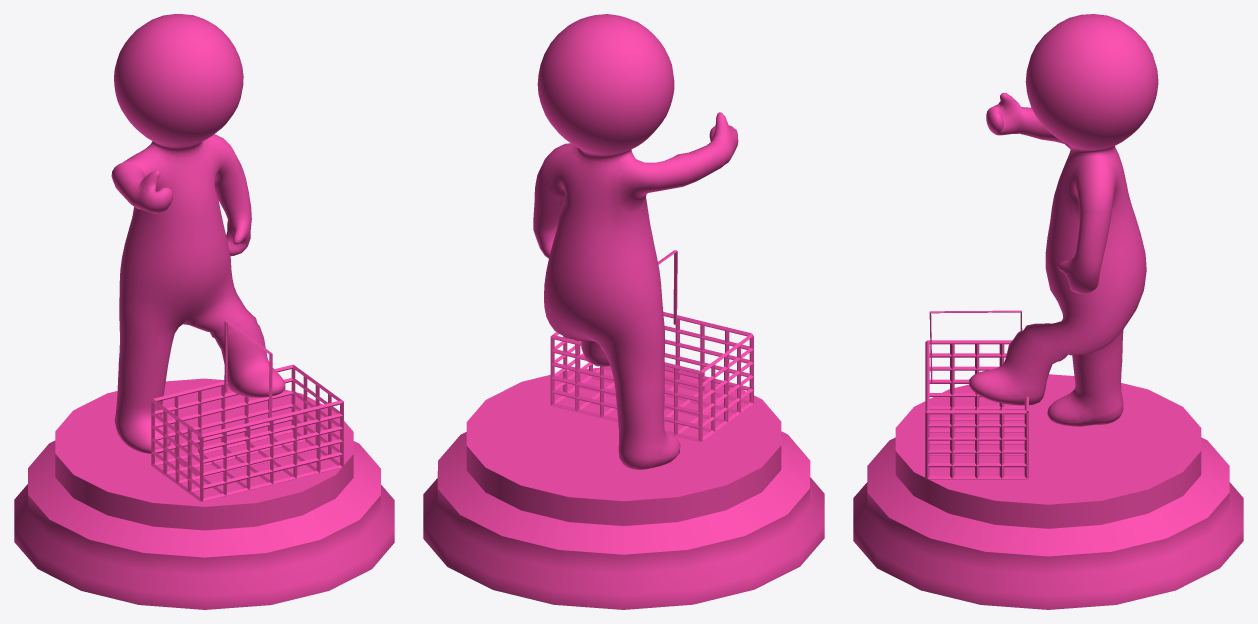
File: Statue.FBX
The picture shows the model from 3 angles, left to right: view 1: azimuth 30°, elevation 25°; view 2: azimuth 150°, elevation 25°; view 3: azimuth 270°, elevation 25°; orthographic projection. The views are drawn at different scales.
Parts seen in each view (by area): view 1: Cylinder001; view 2: Cylinder001; view 3: Cylinder001.
Part boxes in pixels (<box>): Cylinder001: <box>14,14,394,609</box>; Cylinder001: <box>423,14,824,609</box>; Cylinder001: <box>853,14,1243,609</box>.
Size of the model in its own units: 137 by 193 by 136.
